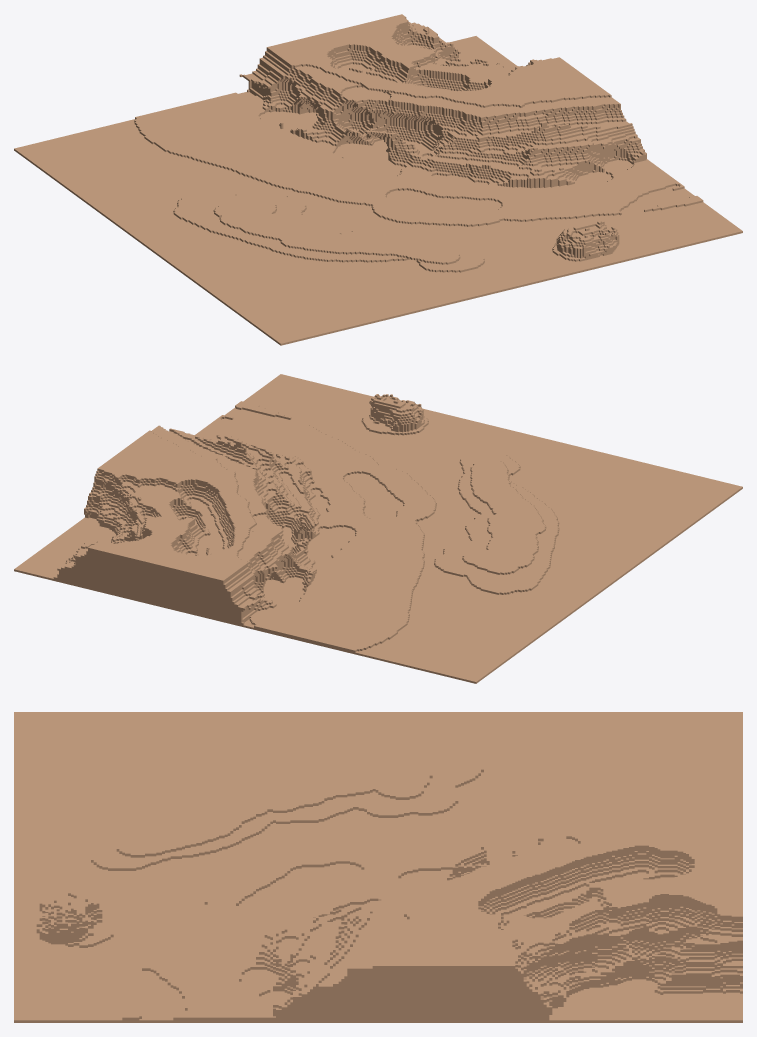
The model's file is groundBorder_08.vox.obj.
The picture shows the model from 3 angles, top to bottom: view 1: azimuth 30°, elevation 25°; view 2: azimuth 150°, elevation 25°; view 3: azimuth 270°, elevation 25°; orthographic projection. The views are drawn at different scales.
Size of the model in its own units: 25.6 by 2.2 by 25.6.
Materials: 1 (1 with a texture image).
